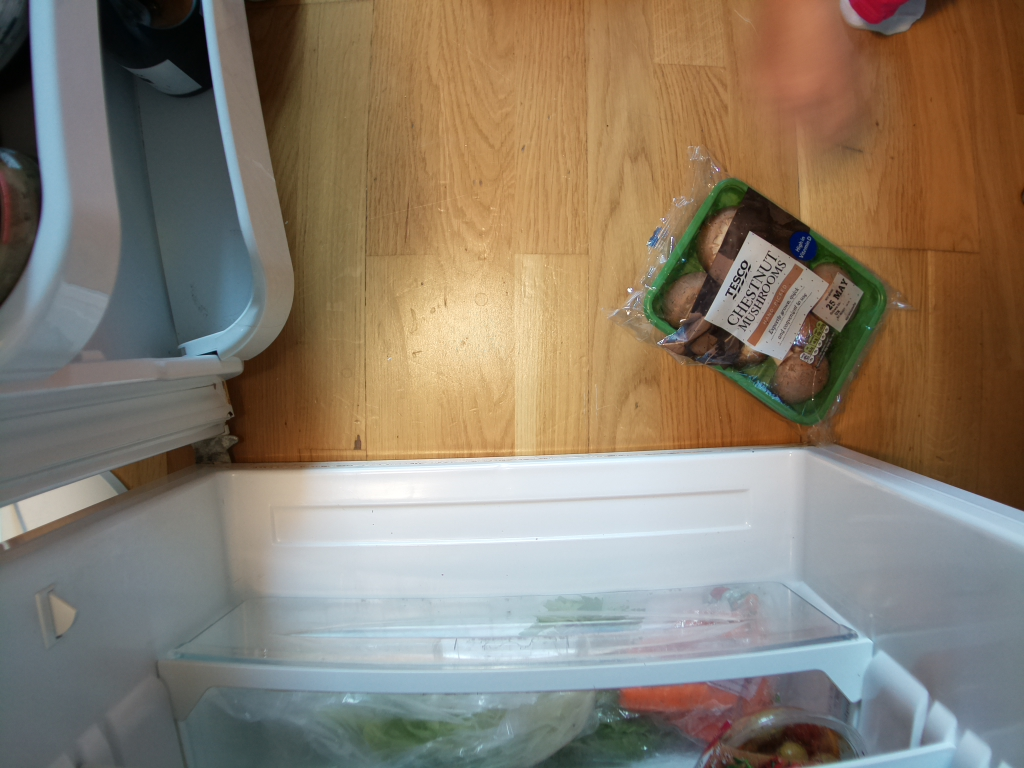mushrooms: (643, 176, 892, 430)
